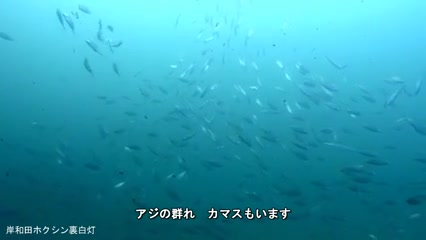smallfish: (82, 35, 107, 57), (60, 8, 81, 34)
